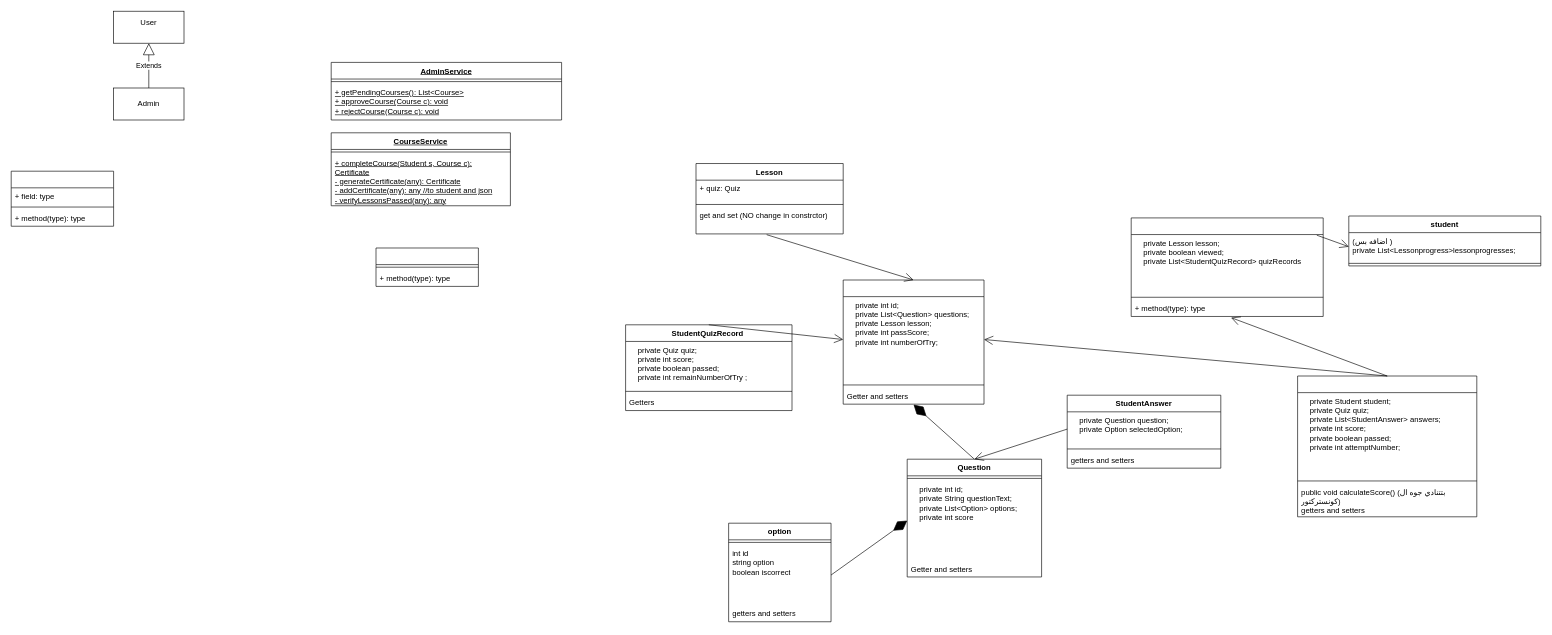
The diagram is 1552 pixels wide and 635 high, and some of its shapes have lost their labels. Here are the shapes that lost their labels. From the top down, the box of each, then its label:
(11, 171, 114, 226): Progress
(375, 247, 478, 286): LessonService
(1131, 217, 1323, 316): Lessonprogerss
(843, 279, 984, 404): Quiz
(1297, 375, 1477, 517): StudentQuizService
